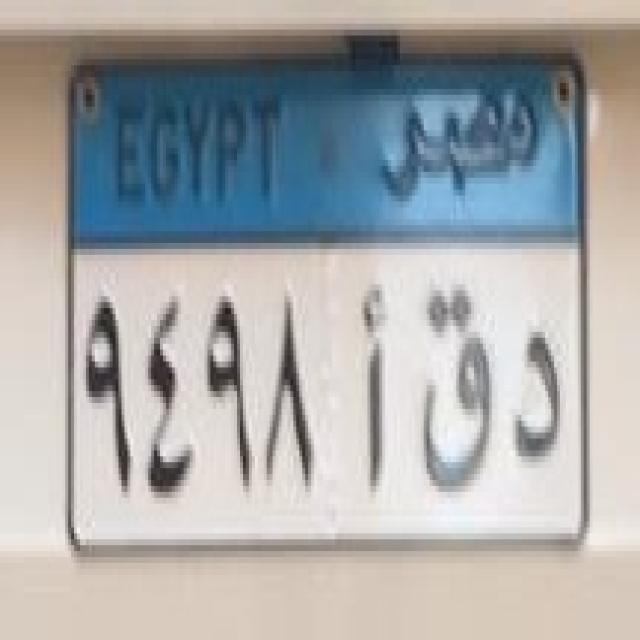4: (138, 284, 202, 514)
8: (261, 282, 323, 508)
9: (78, 292, 140, 514), (198, 290, 258, 494)
Taa: (410, 279, 502, 512)
alef: (350, 278, 398, 508)
daal: (509, 315, 568, 473)
